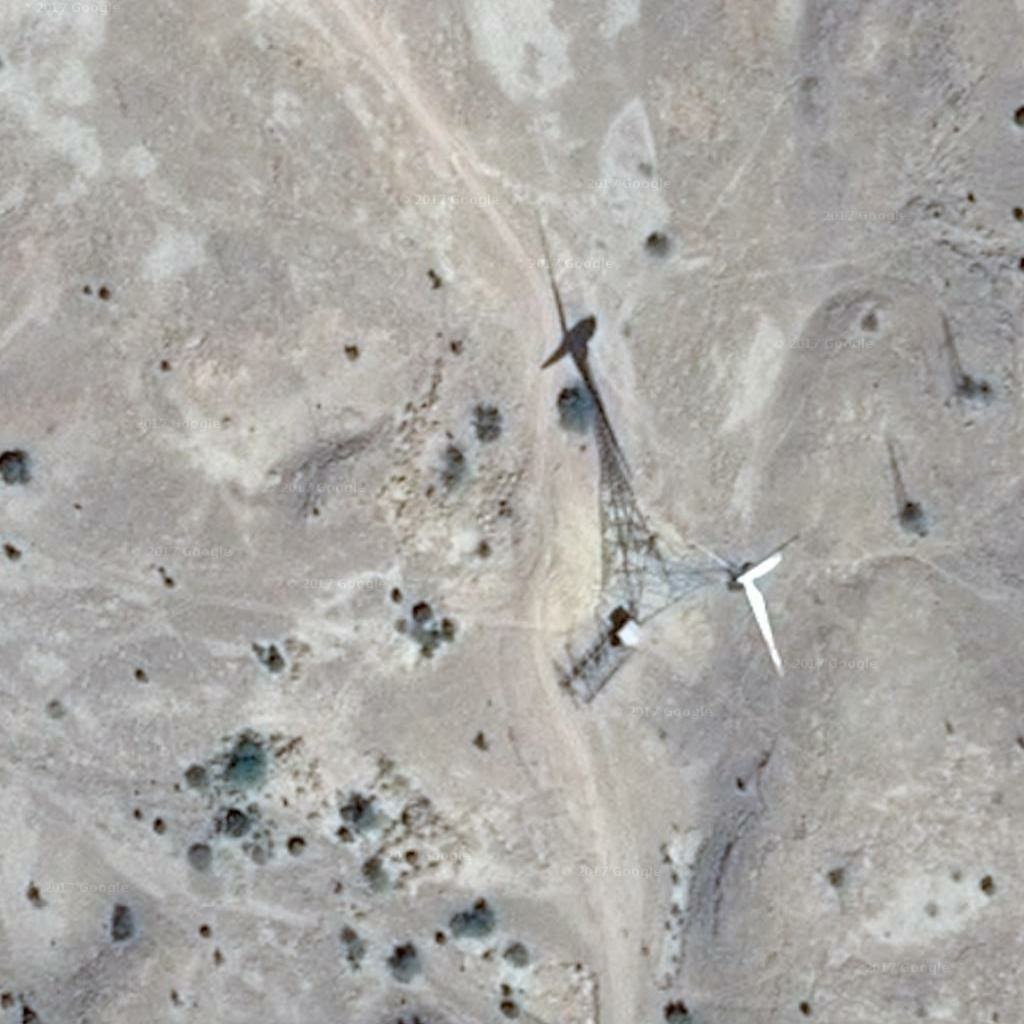Windmill: (520, 204, 676, 586)
